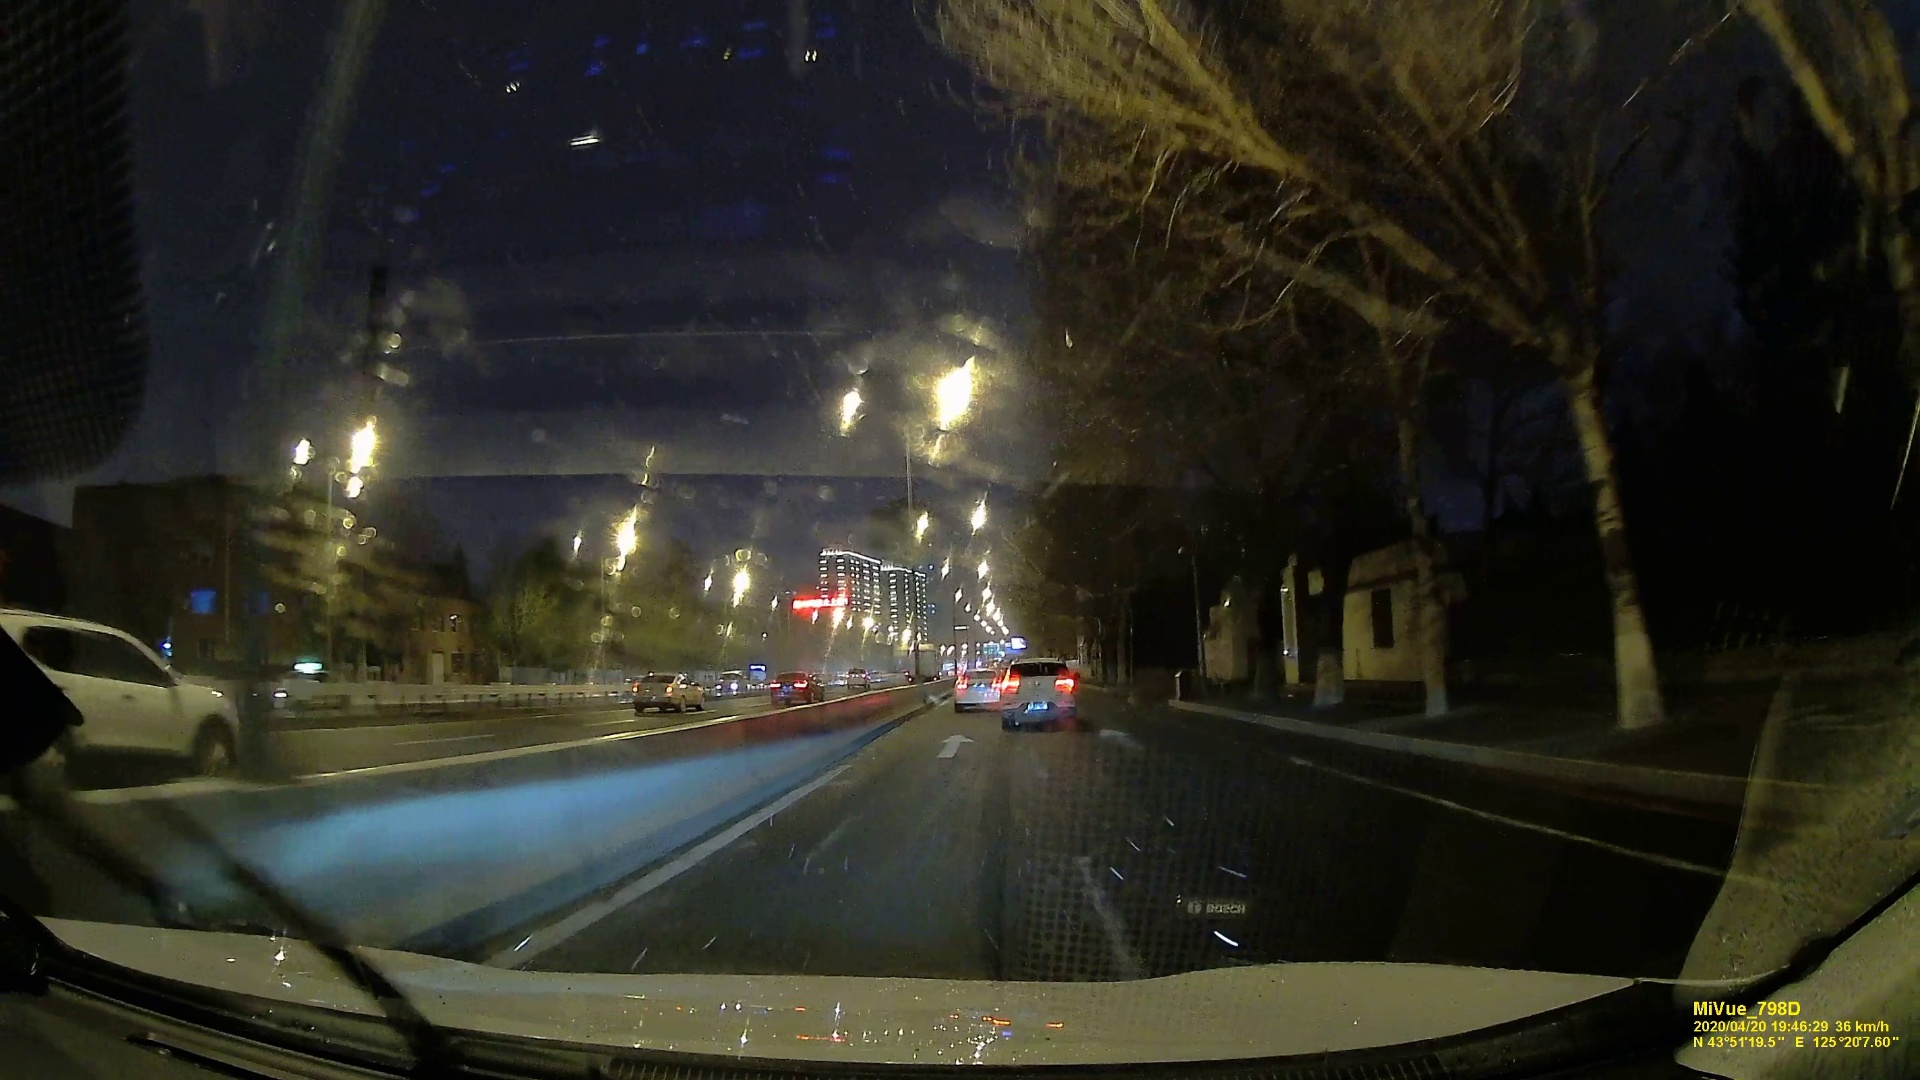truck: (905, 647, 939, 683)
vehicle: (1, 611, 265, 786), (998, 655, 1083, 729), (633, 673, 705, 712), (953, 666, 1005, 708), (767, 670, 823, 704), (845, 667, 872, 688)
